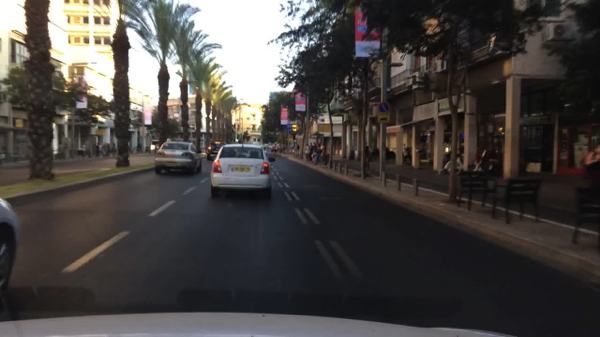car: (209, 142, 276, 201), (0, 196, 20, 294), (154, 140, 202, 176), (206, 143, 228, 161), (261, 145, 268, 156), (271, 146, 279, 154)
motor: (443, 147, 499, 174)
person: (584, 143, 599, 188), (363, 145, 370, 169), (317, 143, 324, 166), (311, 149, 318, 166), (305, 143, 310, 163), (321, 144, 326, 162), (308, 141, 313, 151), (296, 144, 300, 155), (312, 142, 317, 149)
traffic light: (235, 135, 240, 143), (250, 126, 255, 132)
traffic sign: (376, 111, 391, 124), (377, 102, 390, 111), (287, 122, 297, 132), (95, 129, 105, 136), (139, 128, 147, 136)
